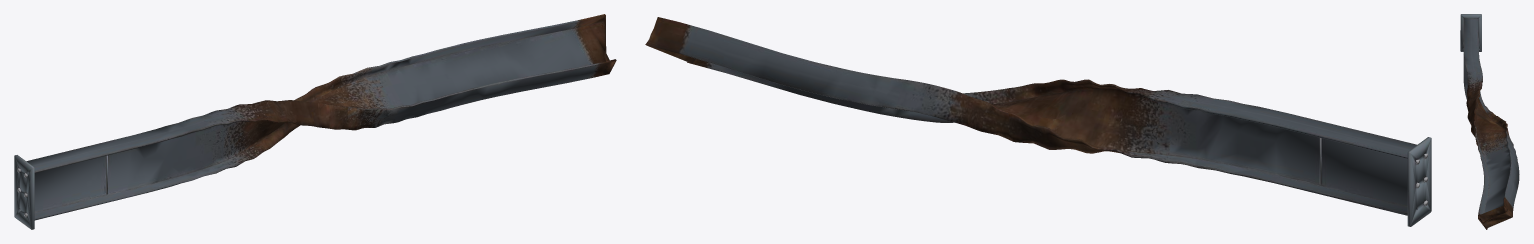
Rendered from industrial_ibeam_twisted_lod1.glb.
The picture shows the model from 3 angles, left to right: view 1: azimuth 30°, elevation 25°; view 2: azimuth 150°, elevation 25°; view 3: azimuth 270°, elevation 25°; orthographic projection. The views are drawn at different scales.
Parts seen in each view (by area): view 1: industrial_ibeam_twisted_paint; view 2: industrial_ibeam_twisted_paint; view 3: industrial_ibeam_twisted_paint.
Part boxes in pixels (x1,y1,x2,y2): industrial_ibeam_twisted_paint: (14, 14, 616, 229); industrial_ibeam_twisted_paint: (645, 17, 1431, 226); industrial_ibeam_twisted_paint: (1460, 14, 1519, 229).
Bounding box in the file's own units: 4.72 × 0.501 × 0.6553.
Materials: 3 (1 with a texture image).
